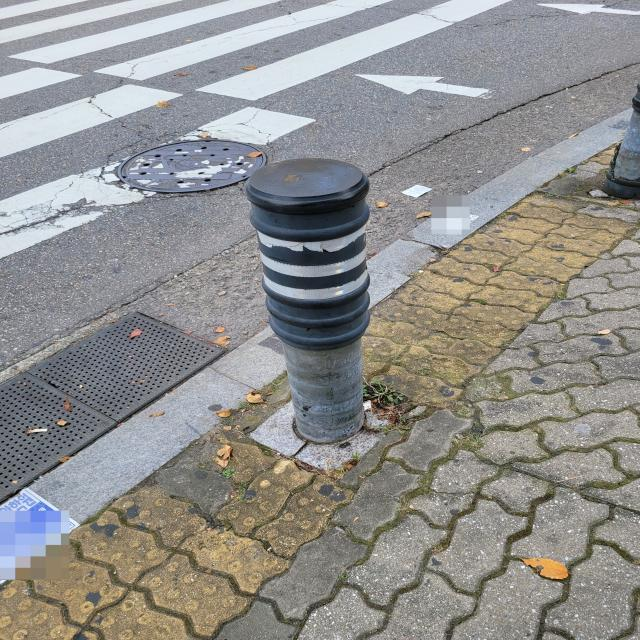pole: (248, 154, 378, 450)
